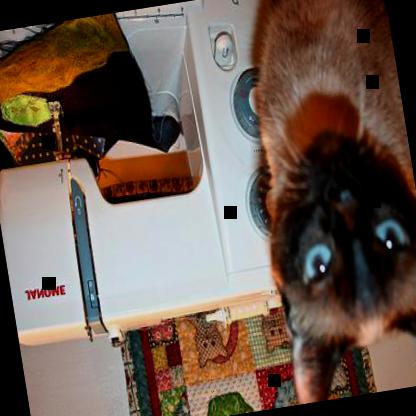cat: (229, 0, 415, 405)
